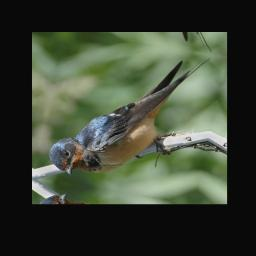Swallow: (44, 36, 213, 194)
